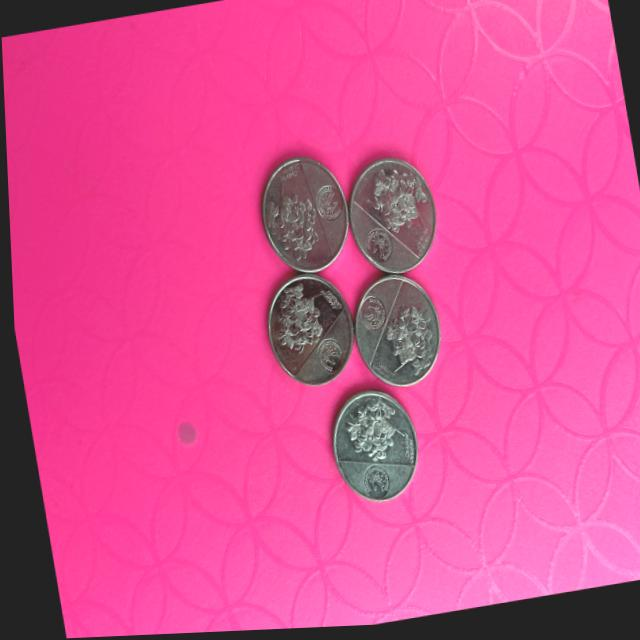1_New_Back: (256, 181, 321, 261), (376, 294, 435, 376), (261, 280, 322, 358), (359, 163, 419, 240), (332, 397, 401, 460)
